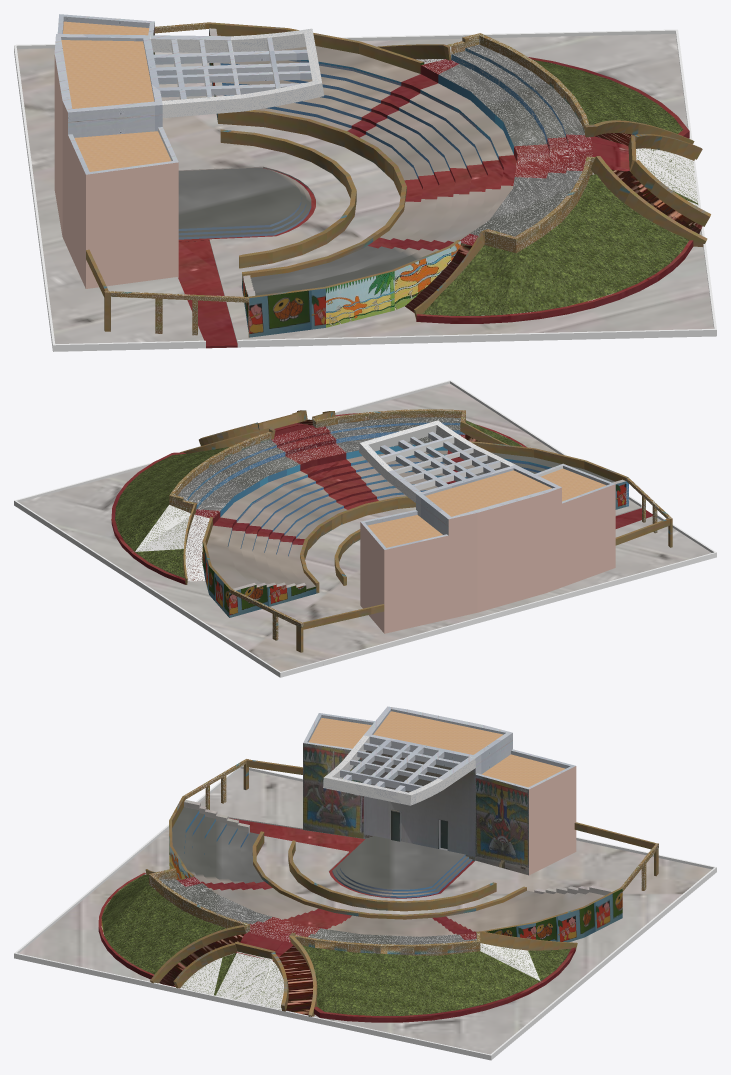
File: outdooraudi.fbx
3 renders of one model, top to bottom at view 1: azimuth 30°, elevation 25°; view 2: azimuth 150°, elevation 25°; view 3: azimuth 270°, elevation 25°, orthographic. The views are drawn at different scales.
Parts seen in each view (by area): view 1: SketchUp.110, SketchUp.127, SketchUp.022, SketchUp.129, SketchUp.094, SketchUp.028, SketchUp.088, SketchUp.006, SketchUp.174, SketchUp.015, SketchUp.097, SketchUp.114 (+52 smaller); view 2: SketchUp.110, SketchUp.129, SketchUp.022, SketchUp.114, SketchUp.094, SketchUp.006, SketchUp.028, SketchUp.174, SketchUp.055, SketchUp.026, SketchUp.015, SketchUp.146 (+30 smaller); view 3: SketchUp.110, SketchUp.114, SketchUp.022, SketchUp.068, SketchUp.094, SketchUp.127, SketchUp.028, SketchUp.139, SketchUp.088, SketchUp.129, SketchUp.130, SketchUp.116 (+28 smaller).
Part boxes in pixels (box(x1,y1,x2,y2)): SketchUp.110: box(17, 34, 713, 343); SketchUp.127: box(422, 174, 688, 315); SketchUp.022: box(54, 14, 324, 174); SketchUp.129: box(54, 55, 178, 288); SketchUp.094: box(14, 29, 716, 351); SketchUp.028: box(377, 33, 694, 318); SketchUp.088: box(178, 167, 301, 228); SketchUp.006: box(404, 134, 629, 201); SketchUp.174: box(61, 40, 154, 108); SketchUp.015: box(217, 110, 406, 278); SketchUp.097: box(326, 241, 460, 327); SketchUp.114: box(533, 60, 683, 133); SketchUp.110: box(19, 383, 711, 671); SketchUp.129: box(360, 484, 615, 633); SketchUp.022: box(359, 420, 615, 549); SketchUp.114: box(115, 447, 228, 578); SketchUp.094: box(14, 380, 716, 677); SketchUp.006: box(271, 423, 378, 509); SketchUp.028: box(169, 409, 508, 584); SketchUp.174: box(425, 470, 551, 516); SketchUp.055: box(202, 542, 316, 617); SketchUp.026: box(202, 517, 384, 652); SketchUp.015: box(300, 496, 415, 593); SketchUp.146: box(197, 456, 299, 510); SketchUp.110: box(19, 768, 711, 1054); SketchUp.114: box(302, 943, 570, 1015); SketchUp.022: box(303, 706, 575, 805); SketchUp.068: box(363, 750, 475, 861); SketchUp.094: box(14, 765, 716, 1060); SketchUp.127: box(101, 874, 226, 974); SketchUp.028: box(145, 868, 577, 1016); SketchUp.139: box(475, 775, 528, 875); SketchUp.088: box(340, 836, 465, 889); SketchUp.129: box(529, 766, 576, 875); SketchUp.130: box(303, 743, 363, 838); SketchUp.116: box(181, 951, 283, 1009).
Bounding box in the file's own units: 5635 × 1023 × 5762.
19 materials, 16 textured.
